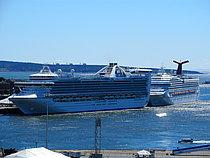Ship: (7, 61, 156, 118), (146, 57, 204, 109)
